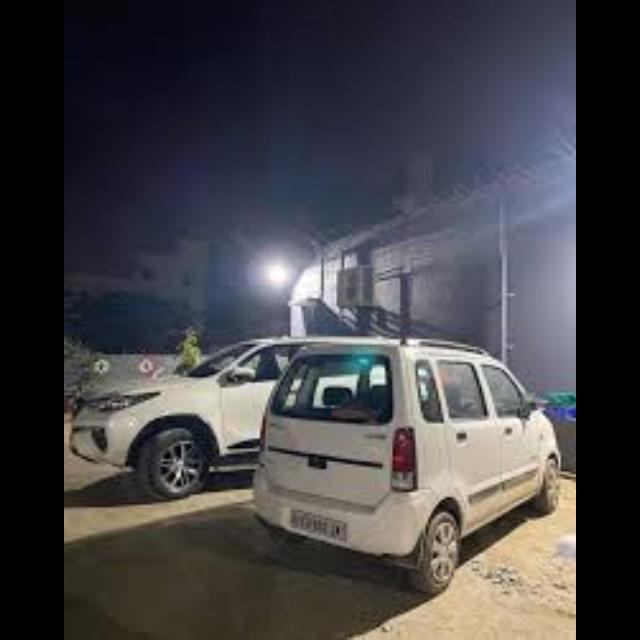vehicles: (247, 336, 563, 592)
